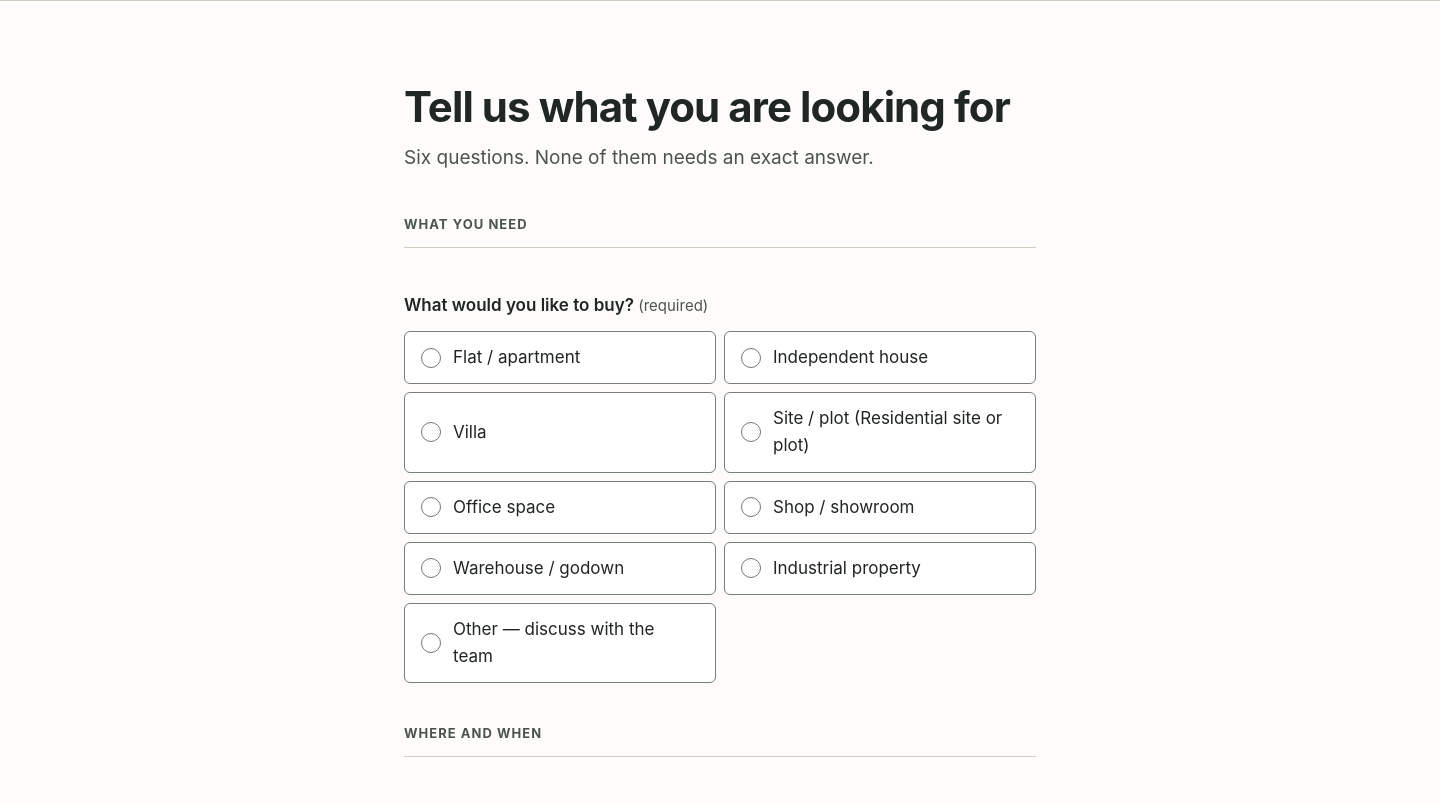
conditional fields › asks about bedrooms for a home but not for a site
Check: the element "how many bedrooms" is not shown
Click the radio button labelled "Flat / apartment" at (431,358), box x1=421 y1=348 x2=441 y2=368
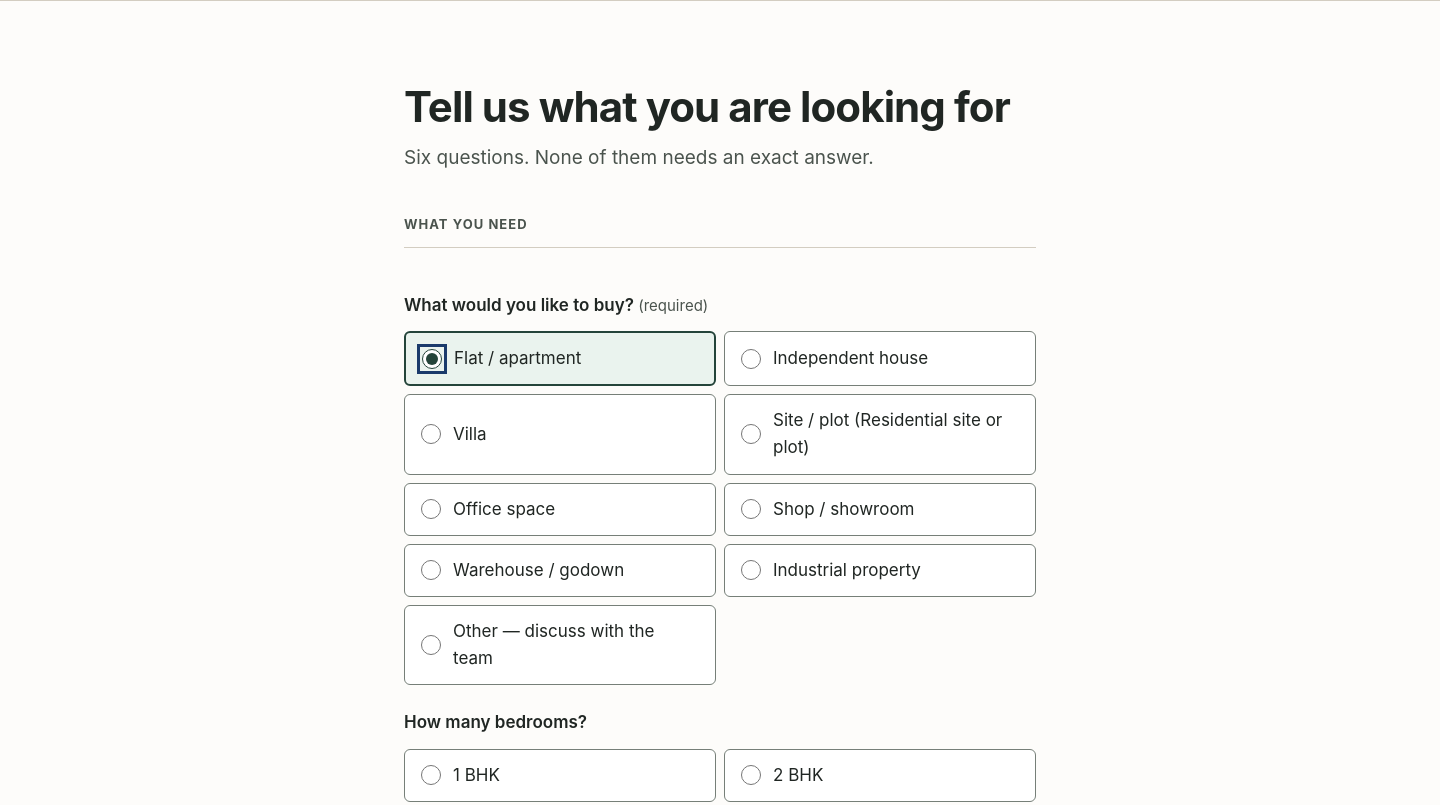
Click the radio button labelled "Site / plot (Residential site or plot)" at (751,434), box x1=741 y1=424 x2=761 y2=444
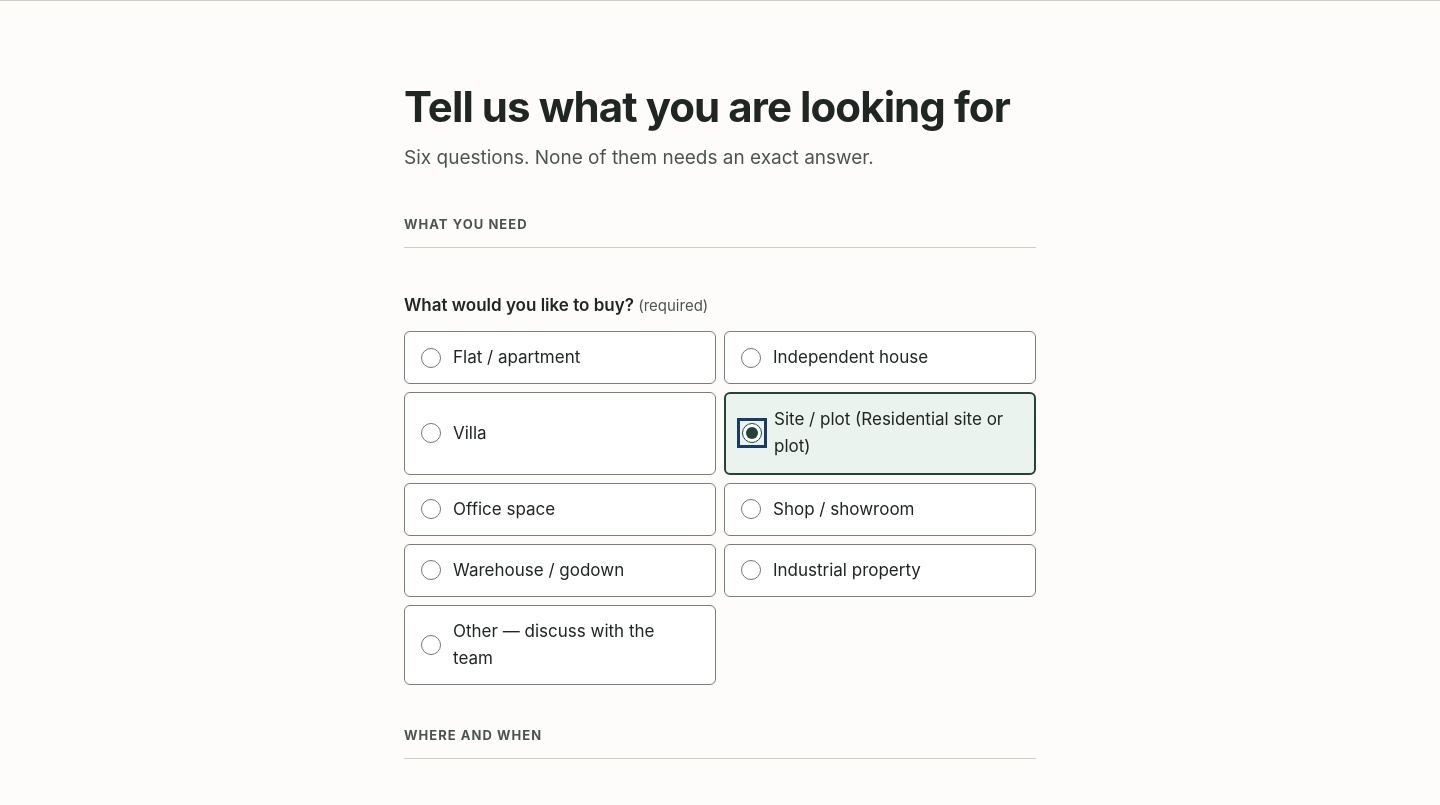
Check: the text "How many bedrooms" is gone
